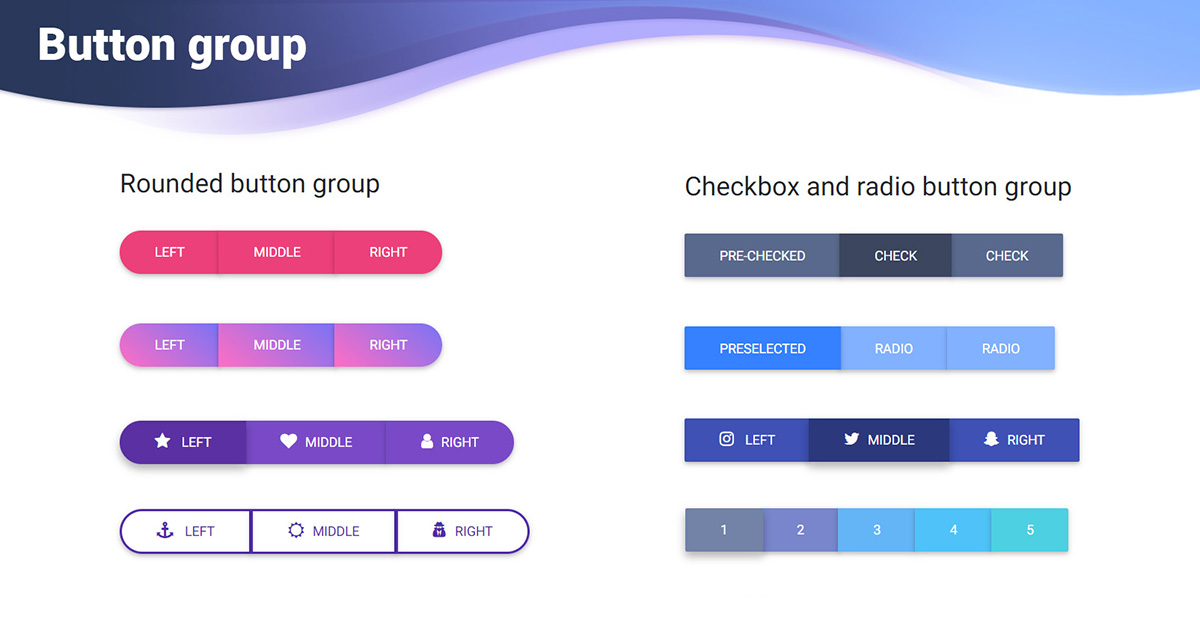button: (327, 222, 458, 303), (676, 230, 845, 290), (833, 222, 955, 284), (218, 225, 338, 281), (108, 224, 221, 282), (955, 231, 1068, 279), (914, 497, 998, 561), (837, 500, 916, 560), (990, 500, 1070, 554), (683, 504, 766, 555), (762, 502, 841, 555)
